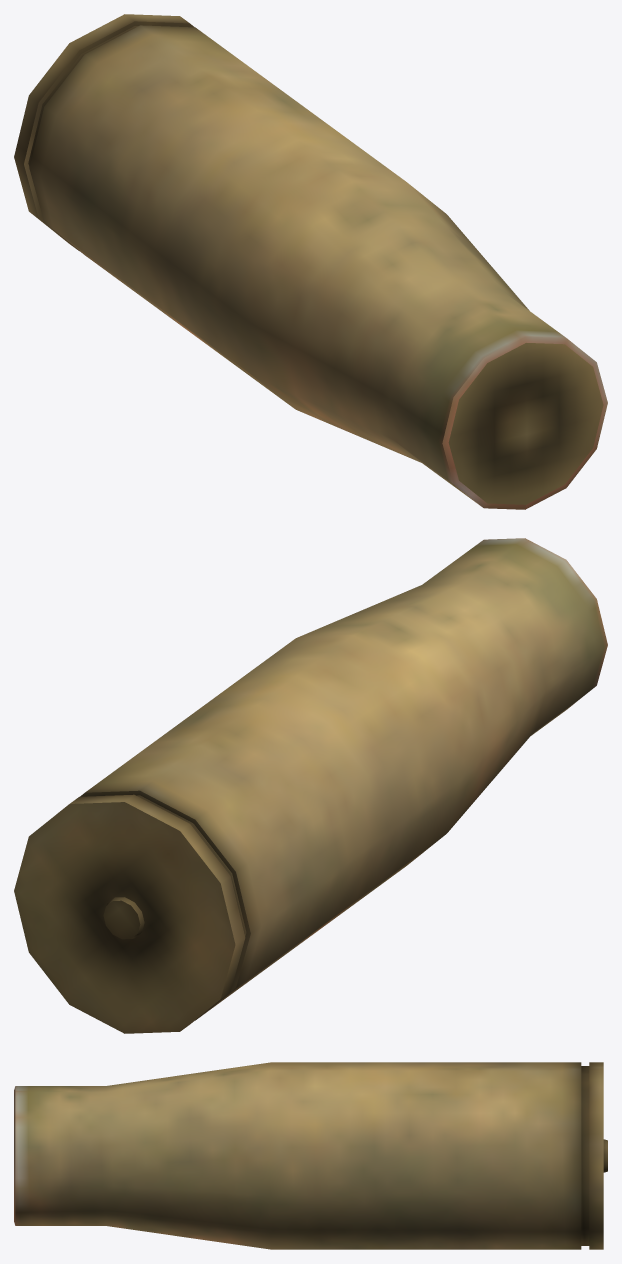
The model's file is snipershell.fbx.
3 views of the same model, one above another, from view 1: azimuth 30°, elevation 25°; view 2: azimuth 150°, elevation 25°; view 3: azimuth 270°, elevation 25° (orthographic). The views are drawn at different scales.
Parts seen in each view (by area): view 1: bullet; view 2: bullet; view 3: bullet.
Boxes of the visible parts, bbox=[...] form: bullet: bbox=[14, 14, 607, 509]; bullet: bbox=[14, 538, 607, 1033]; bullet: bbox=[14, 1062, 607, 1249].
Size of the model in its own units: 1.72 by 1.72 by 5.42.
